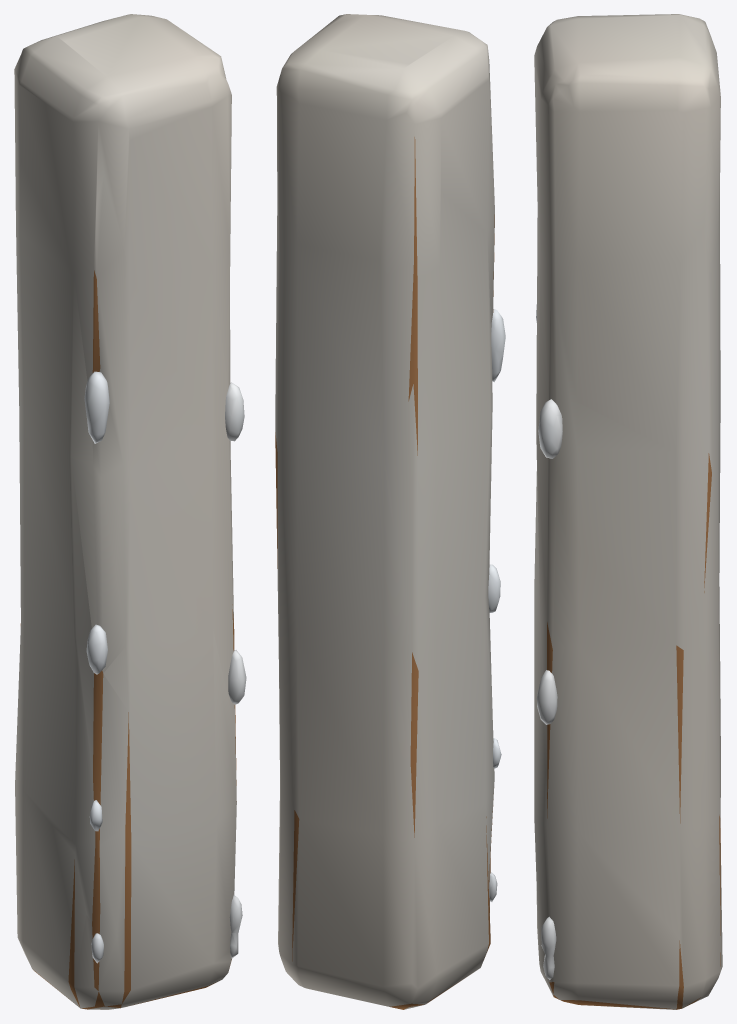
The model's file is frost_frame_post_lod1.glb.
The picture shows the model from 3 angles, left to right: view 1: azimuth 30°, elevation 25°; view 2: azimuth 150°, elevation 25°; view 3: azimuth 270°, elevation 25°; orthographic projection.
Visible parts, largest first — view 1: frost_frame_post.001; view 2: frost_frame_post.001; view 3: frost_frame_post.001.
Part boxes in pixels (<box>): frost_frame_post.001: <box>14,14,246,1009</box>; frost_frame_post.001: <box>275,14,505,1009</box>; frost_frame_post.001: <box>534,14,722,1009</box>.
Size of the model in its own units: 3.64 by 20.06 by 3.61.
